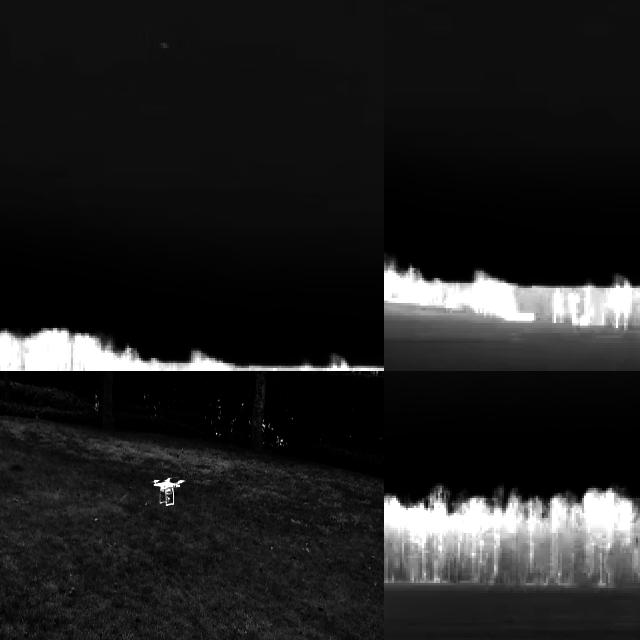0: (159, 38, 179, 63)
drone: (150, 473, 187, 511)
